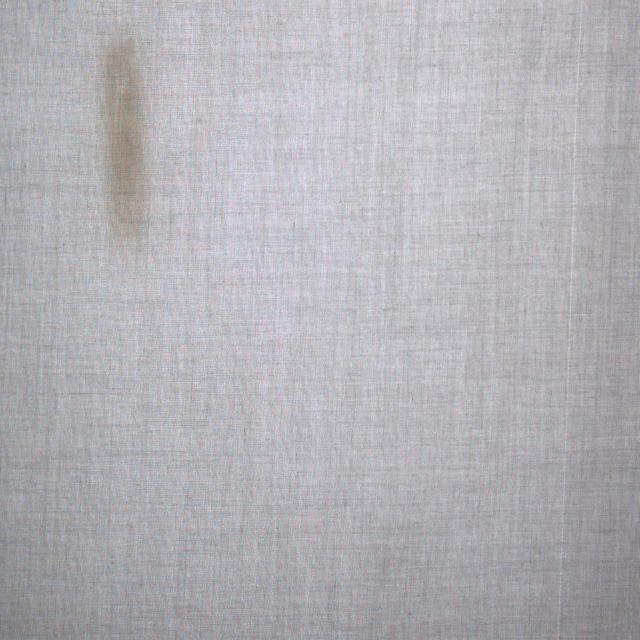dirty: (101, 41, 143, 229)
